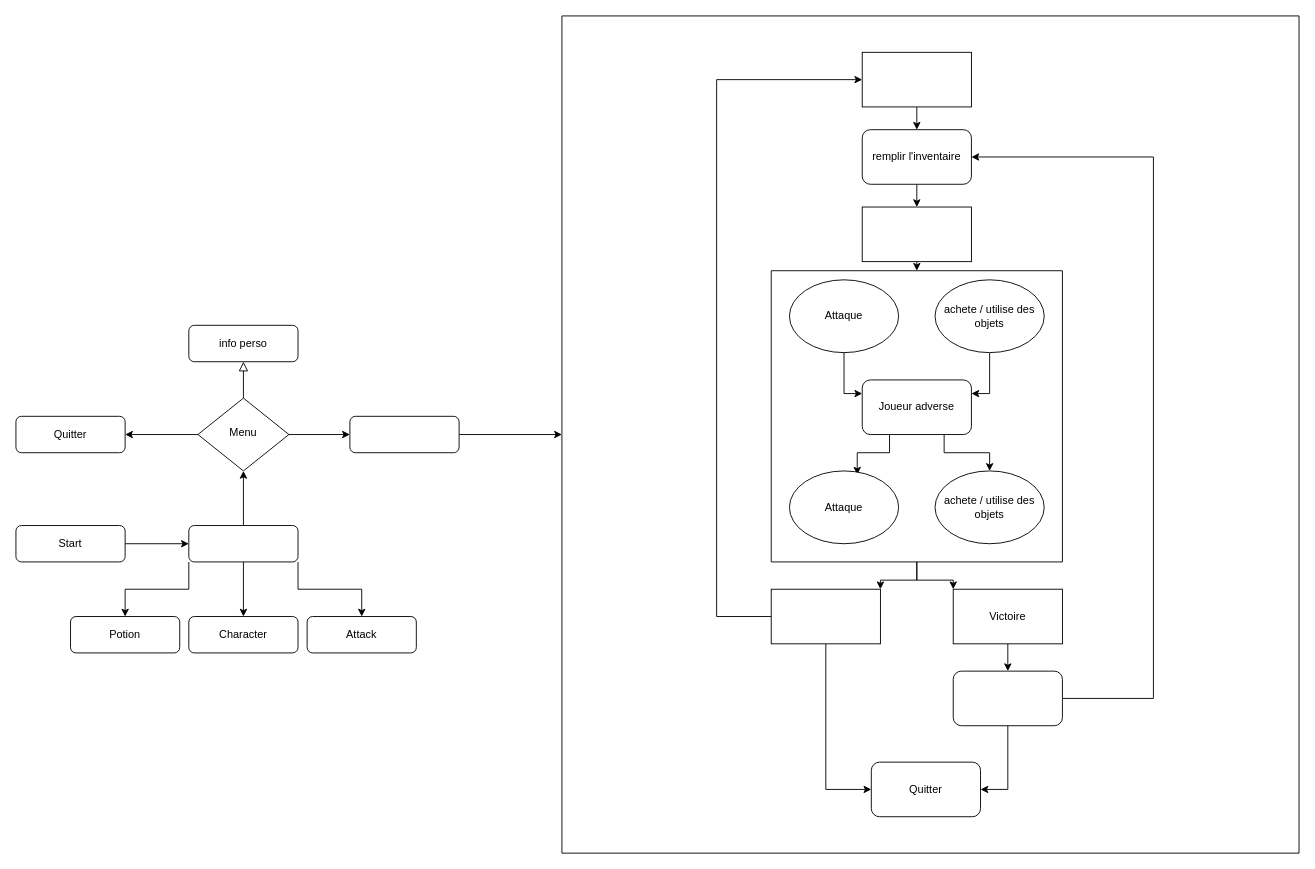
Some shapes in this 1315 by 869 pixel diagram are drawn without their labels. The shapes that lost their labels are listed below. From the top down, each one's centre as x and y in pixels, then its label:
pixel 916 79: Choix du perso
pixel 916 234: Début du combat
pixel 404 434: Play
pixel 243 543: Init
pixel 825 616: Défaite
pixel 1007 698: Gagne de l'argent et XP
